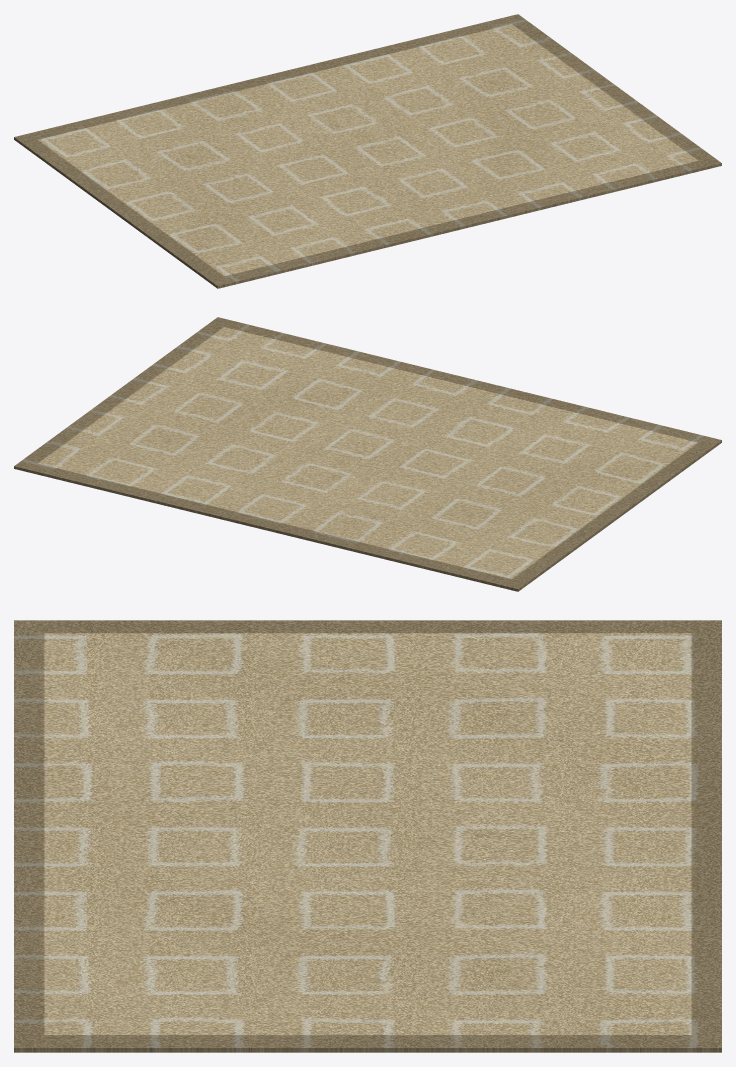
The model's file is alfombra_geometrica_140x200.glb.
3 views of the same model, one above another, from view 1: azimuth 30°, elevation 25°; view 2: azimuth 150°, elevation 25°; view 3: azimuth 270°, elevation 25° (orthographic). The views are drawn at different scales.
Visible parts, largest first — view 1: alfombra_geometrica_140x200; view 2: alfombra_geometrica_140x200; view 3: alfombra_geometrica_140x200.
Boxes of the visible parts, box(x1,y1,x2,y2) form: alfombra_geometrica_140x200: box(14, 14, 721, 288); alfombra_geometrica_140x200: box(14, 317, 721, 591); alfombra_geometrica_140x200: box(14, 620, 721, 1052).
Size of the model in its own units: 2 by 0.01 by 1.4.
Materials: 1 (1 with a texture image).
